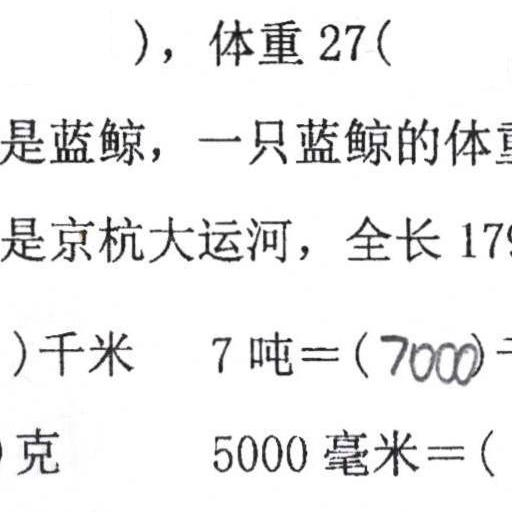ans: (377, 325, 476, 386)
